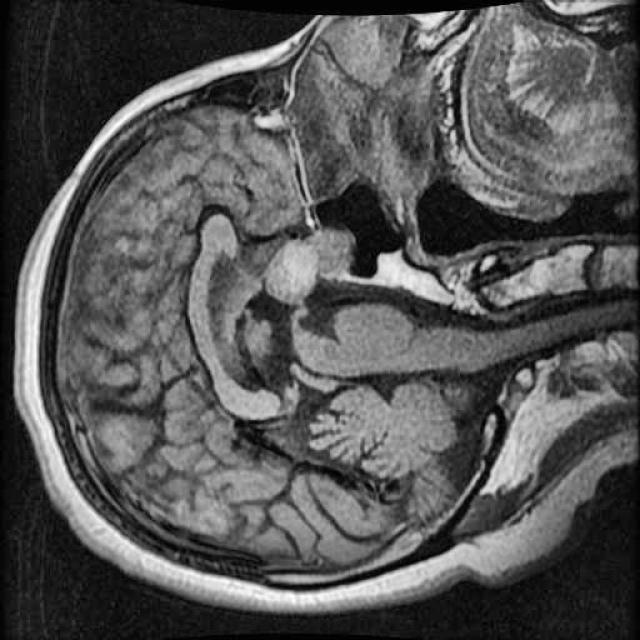Tumor: (249, 206, 372, 325)
